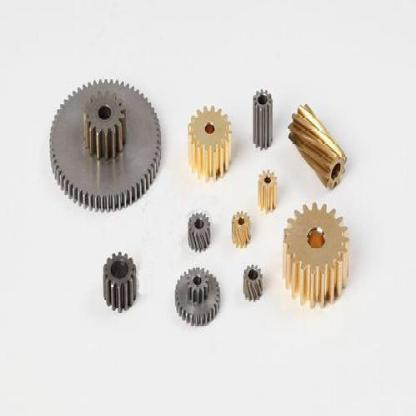FOD: (47, 77, 165, 215), (281, 201, 350, 311), (288, 99, 350, 192), (186, 104, 234, 182), (172, 263, 221, 330), (100, 250, 138, 312), (252, 88, 273, 151), (186, 208, 212, 255), (255, 168, 279, 216), (229, 207, 253, 253), (241, 263, 265, 304)
